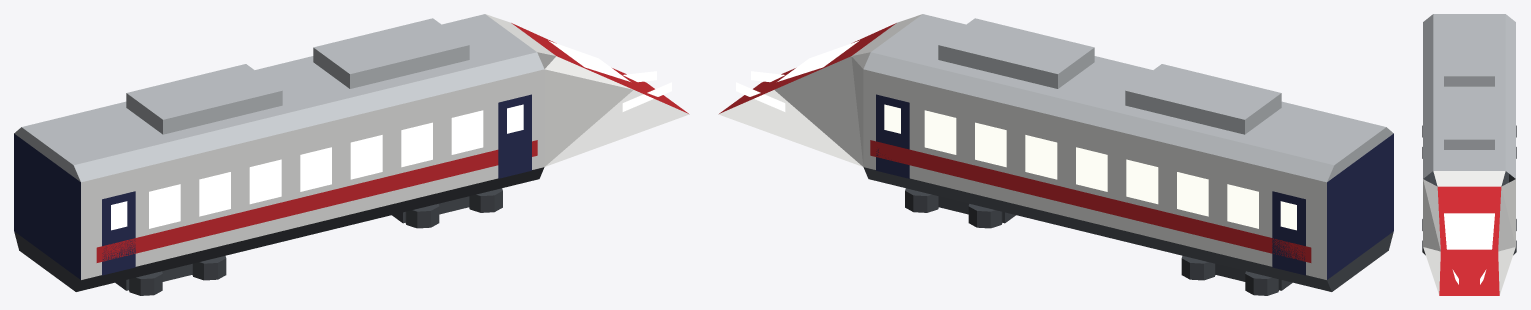
Rendered from tra-puyuma.glb.
3 views of the same model, side by side, from view 1: azimuth 30°, elevation 25°; view 2: azimuth 150°, elevation 25°; view 3: azimuth 270°, elevation 25° (orthographic). The views are drawn at different scales.
Visible parts, largest first — view 1: tra-puyuma_root; view 2: tra-puyuma_root; view 3: tra-puyuma_root.
Part boxes in pixels (left/top/right/bottom): tra-puyuma_root: left=14, top=14, right=689, bottom=295; tra-puyuma_root: left=718, top=14, right=1393, bottom=295; tra-puyuma_root: left=1422, top=14, right=1516, bottom=295.
Size of the model in its own units: 16.6 by 4.04 by 3.16.
Materials: 2 (2 with a texture image).
